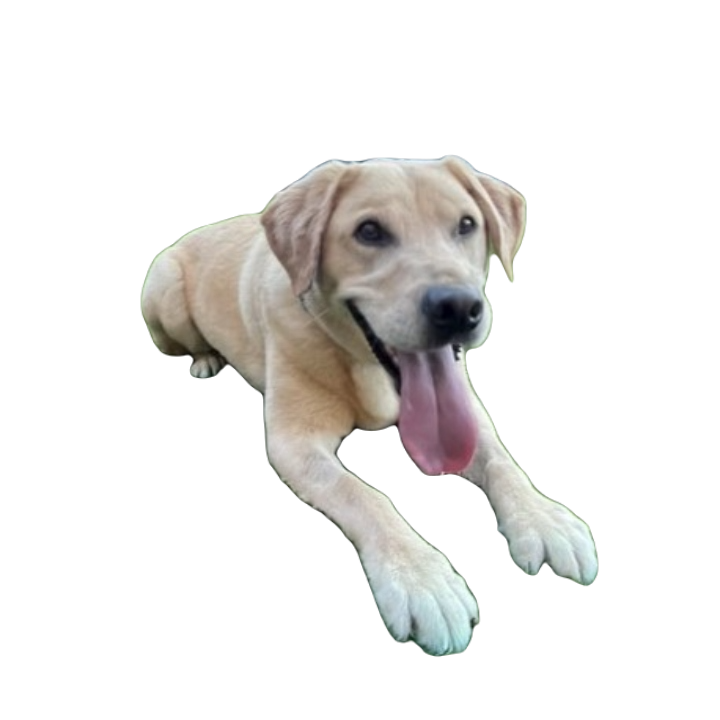Dog: (92, 156, 599, 658)
